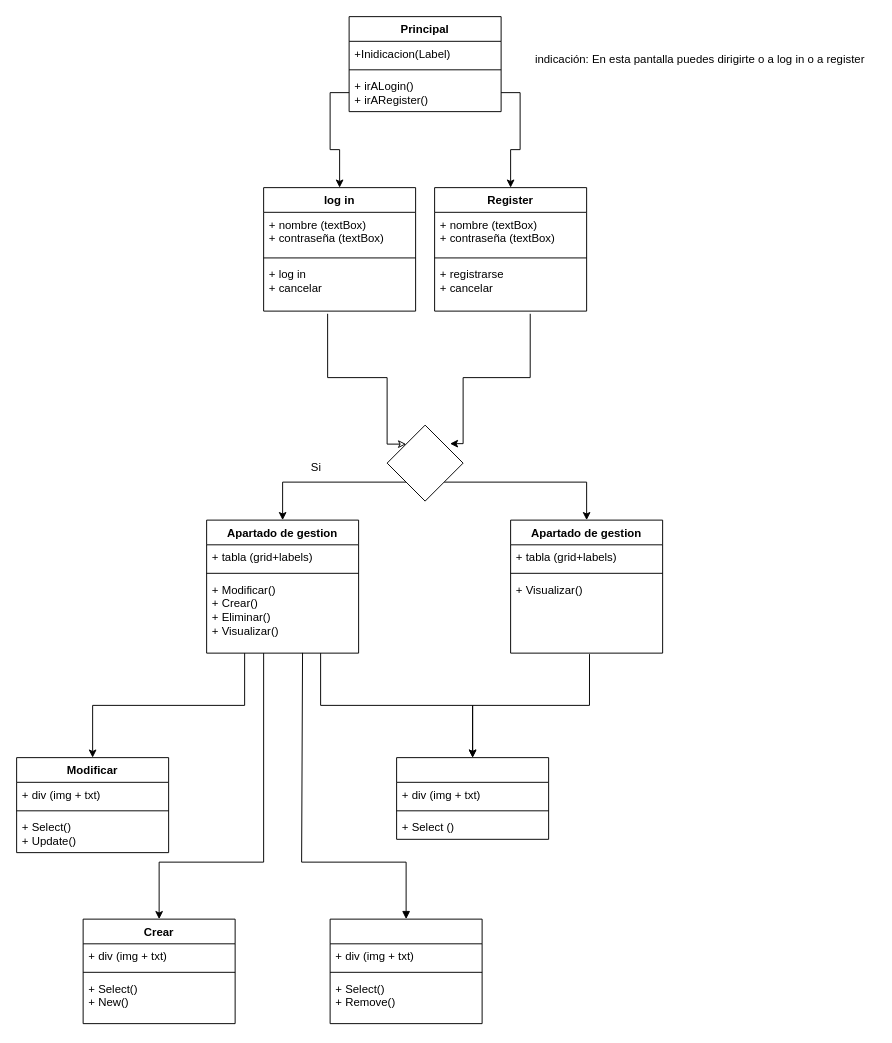
The diagram is 892 pixels wide and 1043 high, and some of its shapes have lost their labels. The box of each missing label's shape, as (x1, y1, x2, y2) in pixels:
Eliminar: (329, 918, 482, 1024)
Es admin?: (386, 424, 463, 501)
Visualizar: (396, 757, 549, 839)
